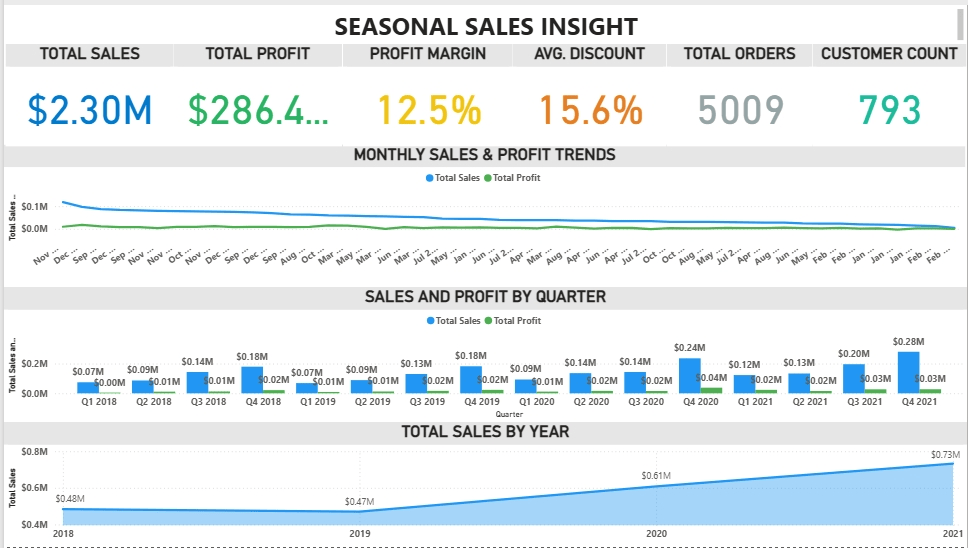

This screenshot's page, from the dashboard's own definition file:
{"tool":"powerbi","page":{"name":"Sales and Profit Trends Over Time","canvas":[1280,720],"ordinal":0},"visuals":[{"type":"lineChart","title":"MONTHLY SALES AND PROFIT TREND ANALYSIS","fields":{"Category":["Orders.MonthYear"],"Y":["Sum(Orders.Sales)","Sum(Orders.Profit)"]},"box":[9.4,189,1269.9,253.2],"z":0},{"type":"card","title":"TOTAL SALES","fields":{"Values":["Orders.Total Sales"]},"box":[9.4,52.9,198.4,136.1],"z":1000,"group":"g1"},{"type":"clusteredColumnChart","title":"QUARTERLY SALES AND PROFIT PERFORMANCE ANALYSIS","fields":{"Y":["Sum(Orders.Sales)","Sum(Orders.Profit)"],"Category":["Orders.Quarter"]},"box":[9.4,442.2,1269.9,277.8],"z":1000},{"type":"textbox","box":[0,0,1278.8,53],"z":2000},{"type":"card","title":"TOTAL SALES","fields":{"Values":["Orders.Total Sales"]},"box":[1,52,224,136],"z":2000,"group":"g2"},{"type":"card","title":"TOTAL PROFIT","fields":{"Values":["Orders.Total Profit"]},"box":[207.8,52.9,240,136.1],"z":2000,"group":"g1"},{"type":"group","id":"g1","title":"Group 1","box":[9.4,52.9,1249.1,136.1],"z":3000},{"type":"card","title":"PROFIT MARGIN","fields":{"Values":["Orders.Profit Margin"]},"box":[447.8,52.9,221.1,136.1],"z":3000,"group":"g1"},{"type":"group","id":"g2","title":"Group 1","box":[1,52,1278,136],"z":4000},{"type":"card","title":"TOTAL PROFIT","fields":{"Values":["Orders.Total Profit"]},"box":[225,52,244,136],"z":4000,"group":"g2"},{"type":"card","title":"AVG. DISCOUNT","fields":{"Values":["Orders.Average Discount"]},"box":[668.9,52.9,200.3,136.1],"z":4000,"group":"g1"},{"type":"card","title":"TOTAL ORDERS","fields":{"Values":["Orders.Total Orders"]},"box":[869.2,52.9,189,136.1],"z":5500,"group":"g1"},{"type":"card","title":"CUSTOMER COUNT","fields":{"Values":["Orders.Customer Count"]},"box":[1058.2,52.9,200.3,136.1],"z":5750,"group":"g1"},{"type":"card","title":"PROFIT MARGIN","fields":{"Values":["Orders.Profit Margin"]},"box":[449.6,52,226.2,136],"z":6000,"group":"g2"},{"type":"card","title":"AVG. DISCOUNT","fields":{"Values":["Orders.Average Discount"]},"box":[675.8,52,204.9,136],"z":7000,"group":"g2"},{"type":"card","title":"TOTAL ORDERS","fields":{"Values":["Orders.Total Orders"]},"box":[880.7,52,193.3,136],"z":8000,"group":"g2"},{"type":"card","title":"CUSTOMER COUNT","fields":{"Values":["Orders.Customer Count"]},"box":[1074.1,52,204.9,136],"z":9000,"group":"g2"}]}

Visuals, with their boxes in screenshot pixels (x1, y1, x2, y2), scaled from the page's 1280x720 canvas onto the 968x548 screenshot:
"MONTHLY SALES AND PROFIT TREND ANALYSIS" lineChart: (left=7, top=144, right=967, bottom=337)
"TOTAL SALES" card: (left=7, top=40, right=157, bottom=144)
"QUARTERLY SALES AND PROFIT PERFORMANCE ANALYSIS" clusteredColumnChart: (left=7, top=337, right=967, bottom=547)
textbox: (left=0, top=0, right=967, bottom=40)
"TOTAL SALES" card: (left=1, top=40, right=170, bottom=143)
"TOTAL PROFIT" card: (left=157, top=40, right=339, bottom=144)
"Group 1" group: (left=7, top=40, right=952, bottom=144)
"PROFIT MARGIN" card: (left=339, top=40, right=506, bottom=144)
"Group 1" group: (left=1, top=40, right=967, bottom=143)
"TOTAL PROFIT" card: (left=170, top=40, right=355, bottom=143)
"AVG. DISCOUNT" card: (left=506, top=40, right=657, bottom=144)
"TOTAL ORDERS" card: (left=657, top=40, right=800, bottom=144)
"CUSTOMER COUNT" card: (left=800, top=40, right=952, bottom=144)
"PROFIT MARGIN" card: (left=340, top=40, right=511, bottom=143)
"AVG. DISCOUNT" card: (left=511, top=40, right=666, bottom=143)
"TOTAL ORDERS" card: (left=666, top=40, right=812, bottom=143)
"CUSTOMER COUNT" card: (left=812, top=40, right=967, bottom=143)
